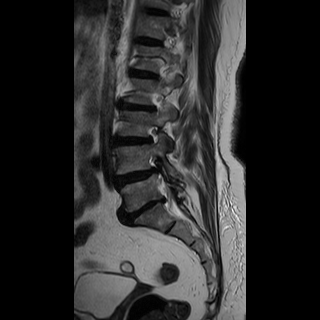RFS0: (141, 120, 165, 149)
